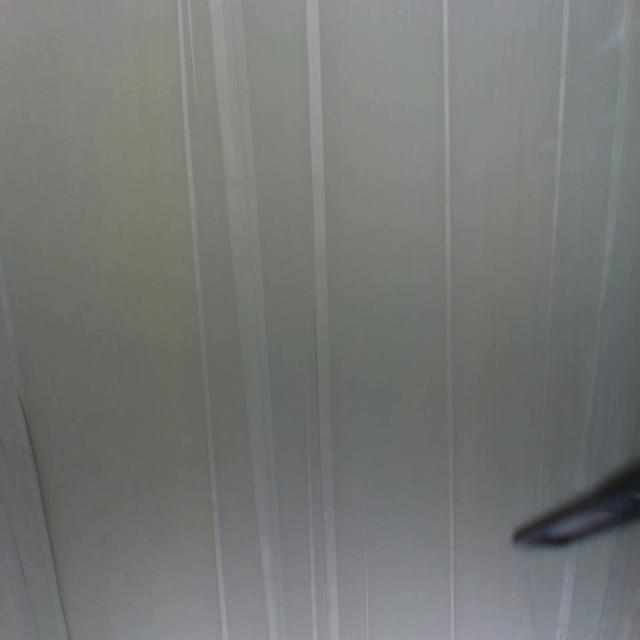crease: (212, 2, 283, 640), (177, 0, 231, 639), (576, 0, 634, 482), (303, 0, 340, 640), (539, 0, 571, 500), (18, 390, 70, 639), (442, 0, 456, 639), (8, 513, 40, 636), (362, 483, 371, 640), (596, 567, 614, 640)
